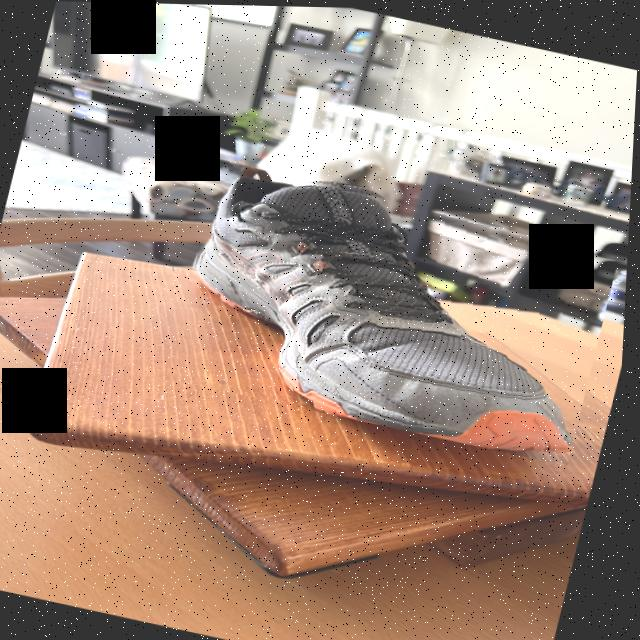shoe: (165, 153, 628, 464)
